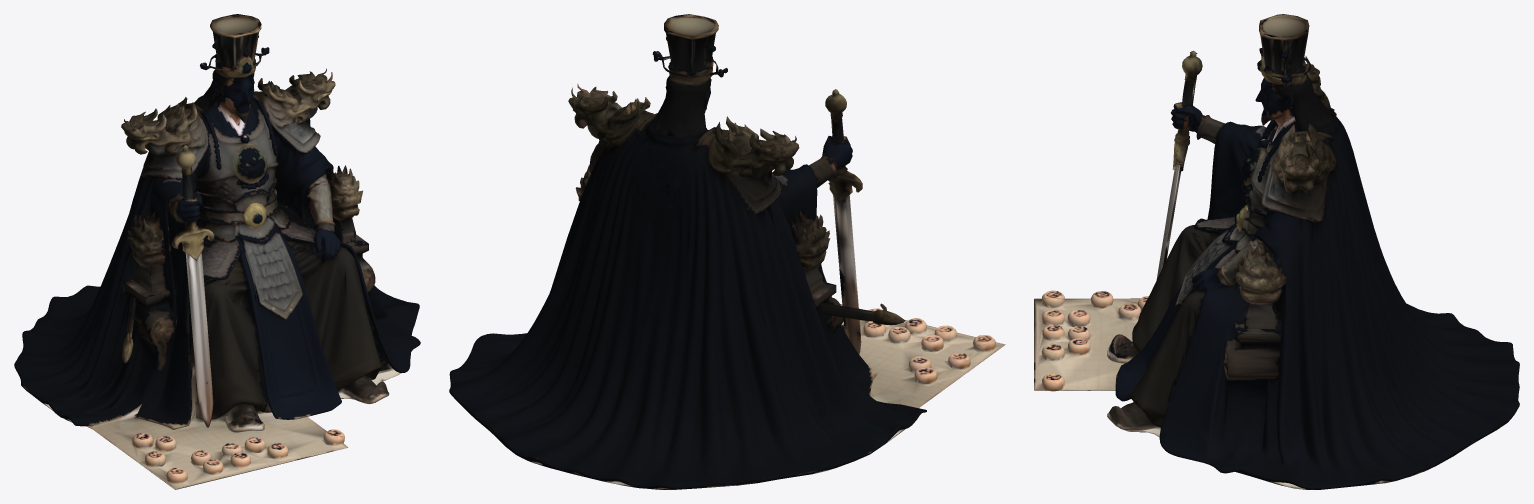
File: general-black-hy3-v2.glb
3 renders of one model, left to right at view 1: azimuth 30°, elevation 25°; view 2: azimuth 150°, elevation 25°; view 3: azimuth 270°, elevation 25°, orthographic. The views are drawn at different scales.
Parts seen in each view (by area): view 1: node_0; view 2: node_0; view 3: node_0.
Boxes of the visible parts, <box> form: node_0: <box>14,14,420,489</box>; node_0: <box>449,14,1005,489</box>; node_0: <box>1034,14,1519,489</box>.
Size of the model in its own units: 2.24 by 1.9 by 2.28.
Materials: 1 (1 with a texture image).
